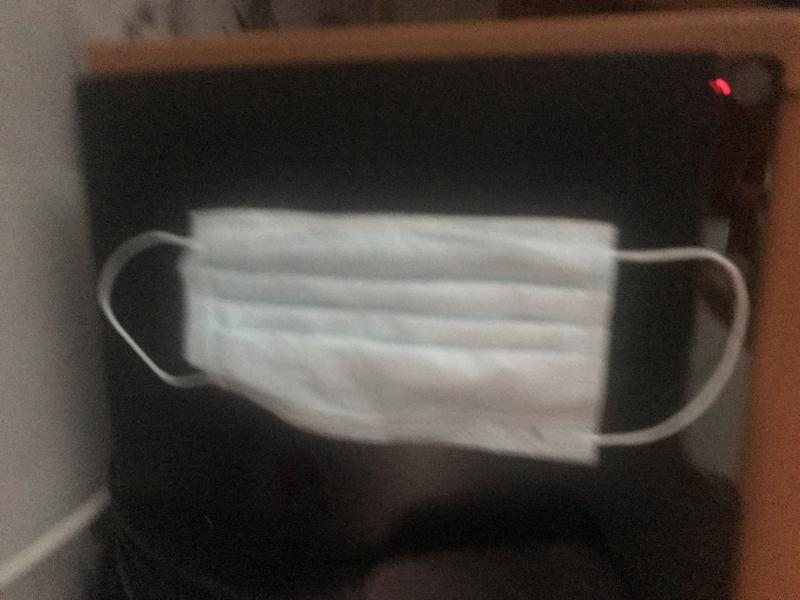medical_mask: (99, 209, 748, 466)
